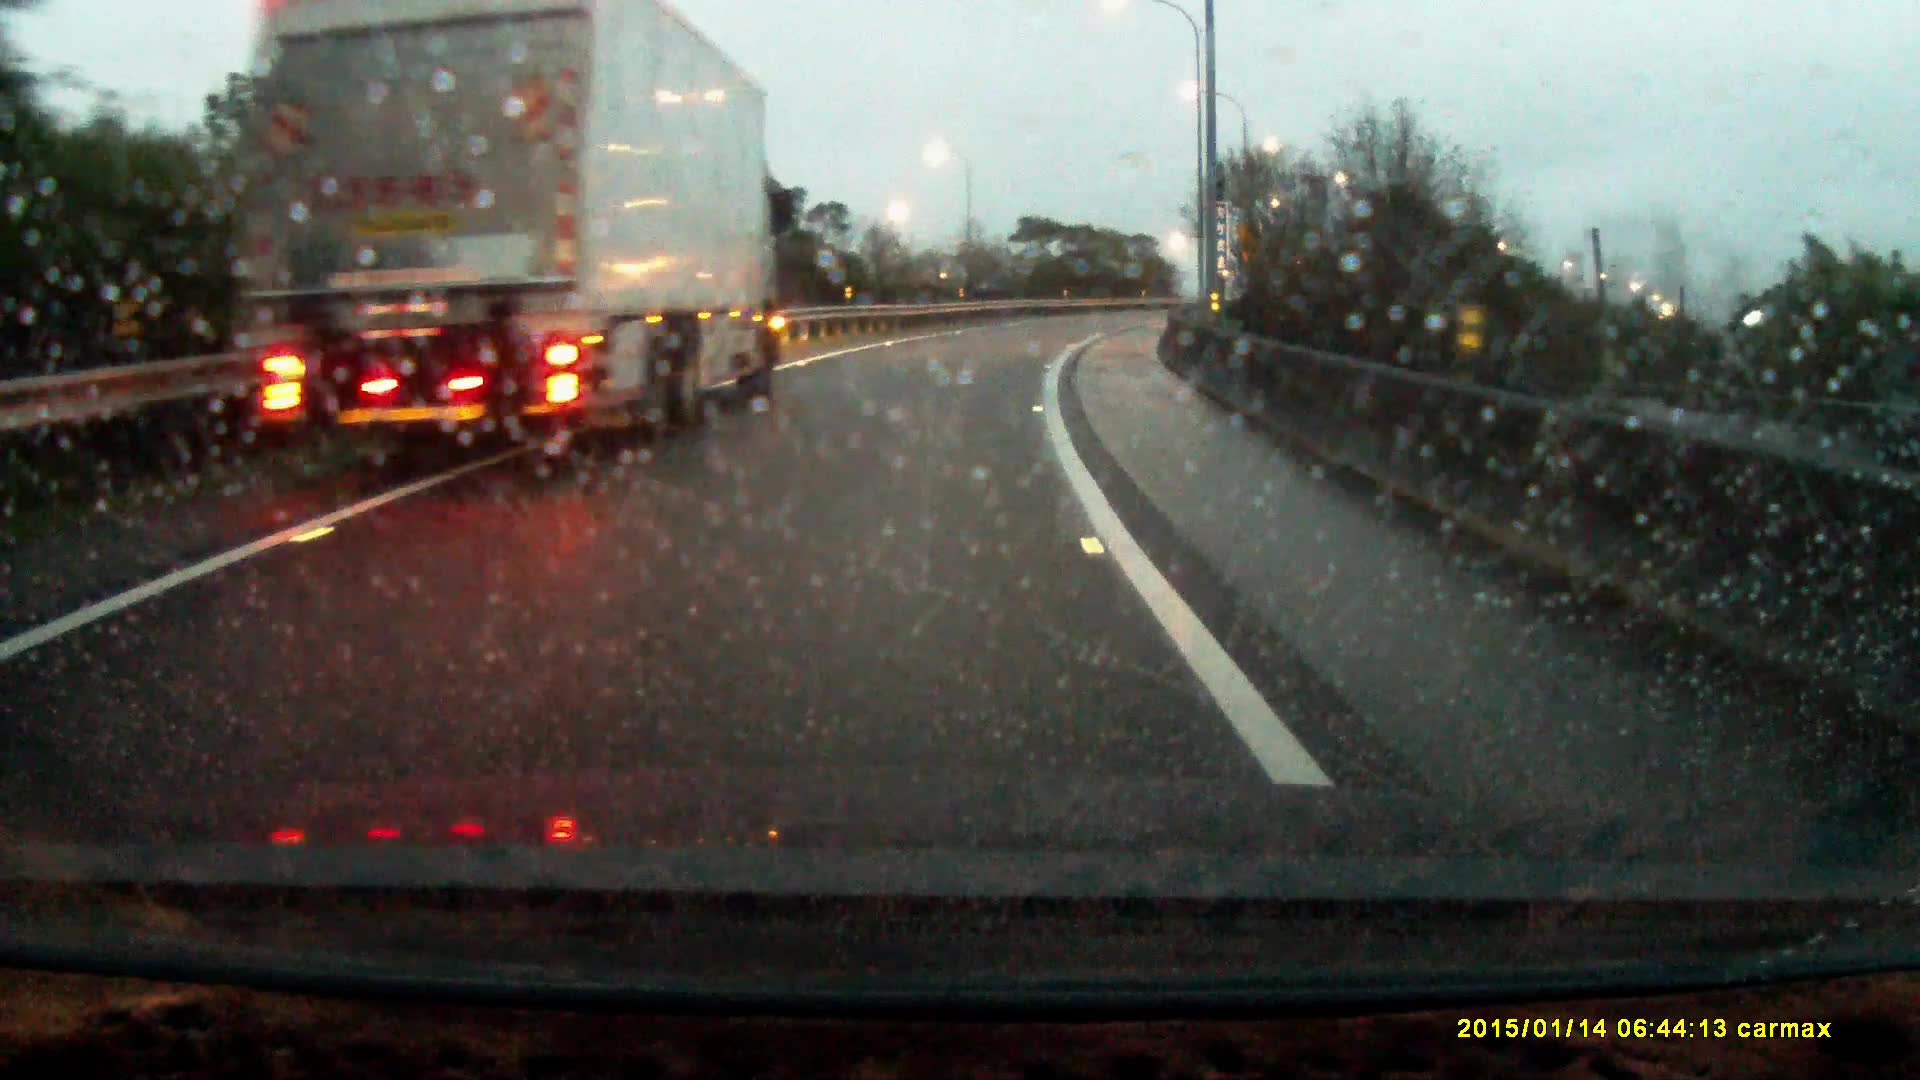vehicle: (210, 1, 793, 468)
